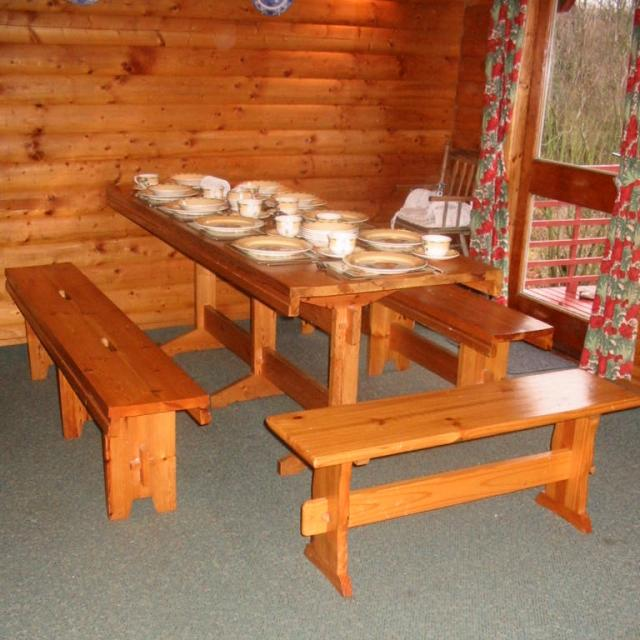table: (105, 178, 504, 418)
